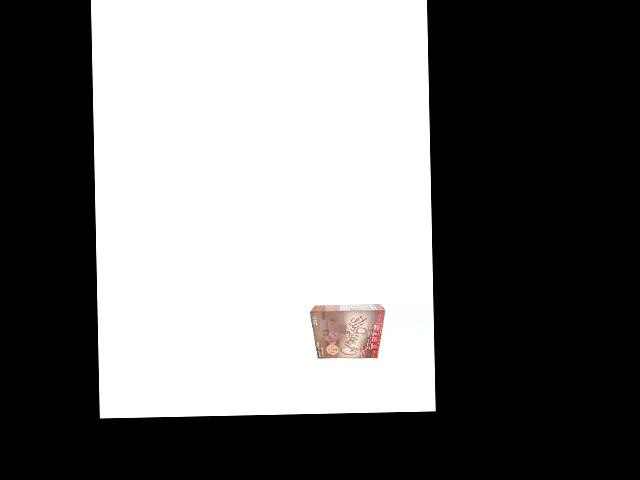chocolate: (309, 304, 384, 360)
